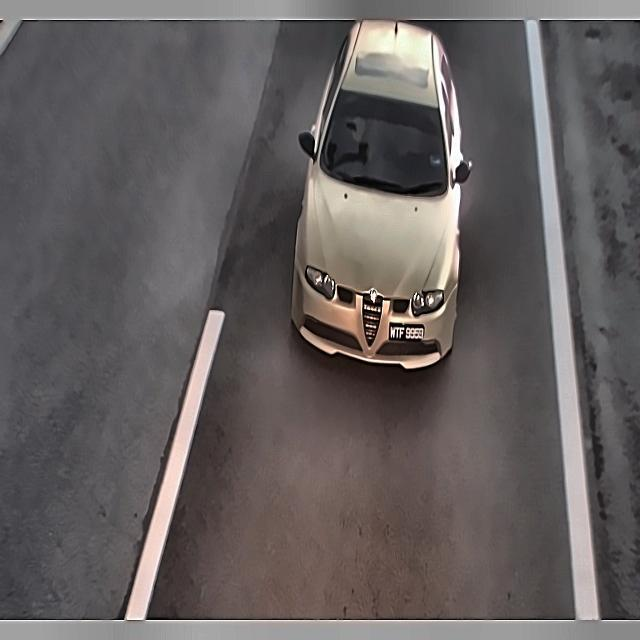car: (378, 310, 433, 355)
